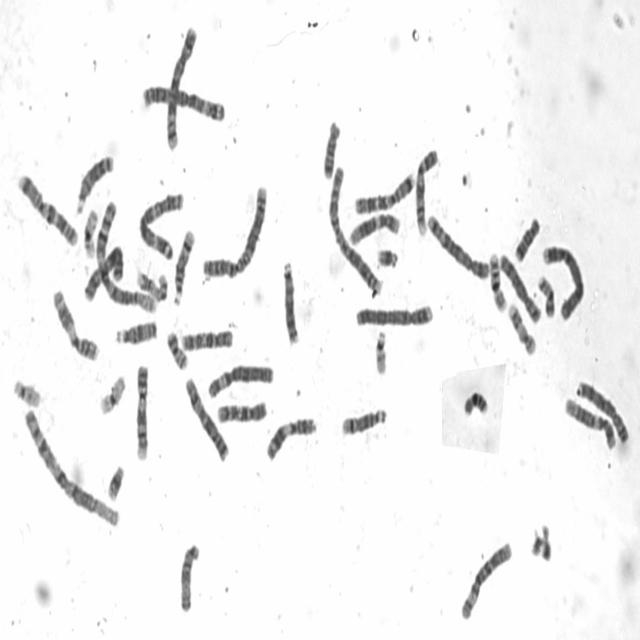A1: (22, 405, 121, 530), (94, 197, 156, 317)
A2: (326, 164, 382, 296), (200, 181, 269, 282)
A3: (139, 81, 227, 124), (137, 187, 185, 263)
B4: (540, 240, 585, 321), (353, 300, 435, 329)
B5: (163, 21, 199, 153), (425, 210, 490, 281)
C10: (179, 326, 234, 353), (215, 398, 268, 425)
C11: (50, 286, 100, 364), (264, 413, 317, 464)
C12: (562, 393, 618, 451), (346, 208, 402, 248)
C6: (458, 536, 514, 623), (204, 359, 274, 400)
C7: (16, 170, 79, 249), (352, 168, 416, 215)
C8: (574, 376, 630, 446), (497, 250, 542, 325)
C9: (412, 143, 440, 239), (133, 360, 150, 464)
D13: (74, 150, 114, 215), (280, 256, 300, 345)
D14: (171, 226, 196, 307), (340, 403, 388, 438)
D15: (177, 539, 201, 614), (113, 316, 159, 348)
E16: (487, 248, 508, 314), (460, 386, 490, 418)
E17: (507, 298, 536, 356), (134, 266, 169, 303)
E18: (512, 214, 541, 263), (321, 116, 342, 182)
F19: (97, 371, 127, 418), (81, 206, 99, 260)
F20: (165, 327, 189, 372), (536, 271, 556, 318)
G21: (105, 460, 126, 501), (374, 244, 400, 271)
G22: (10, 374, 42, 408), (372, 326, 388, 376)
X: (183, 374, 230, 464), (82, 241, 125, 305)
